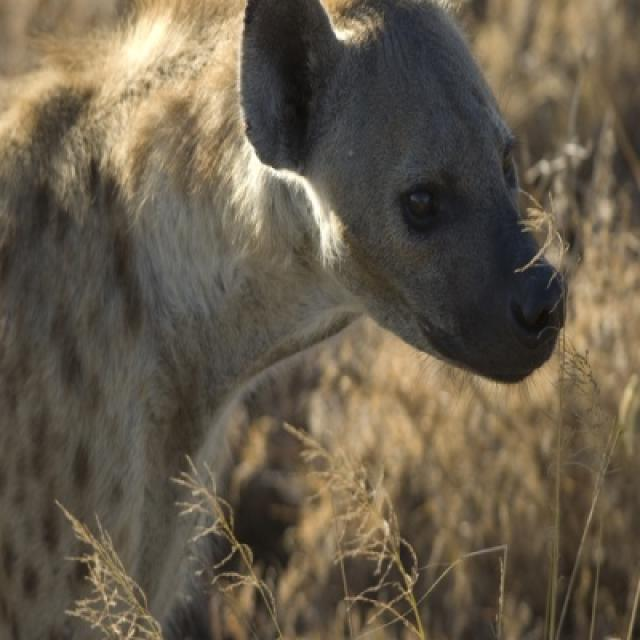hyena: (0, 0, 566, 638)
